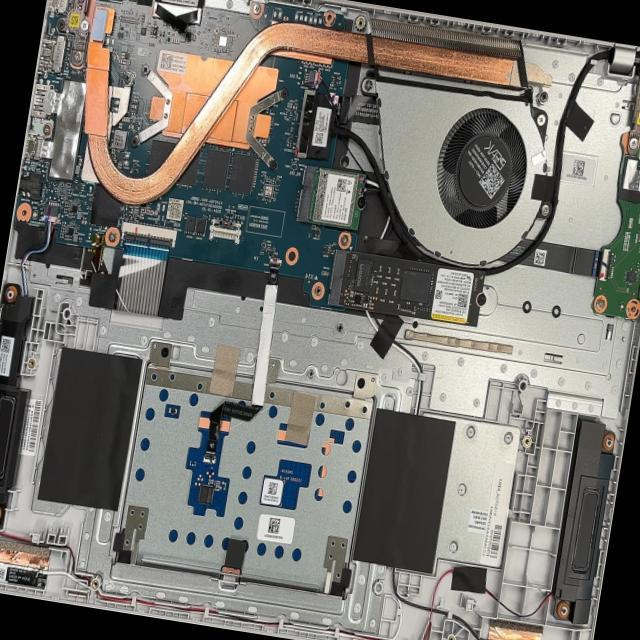Battery: (327, 247, 485, 330)
